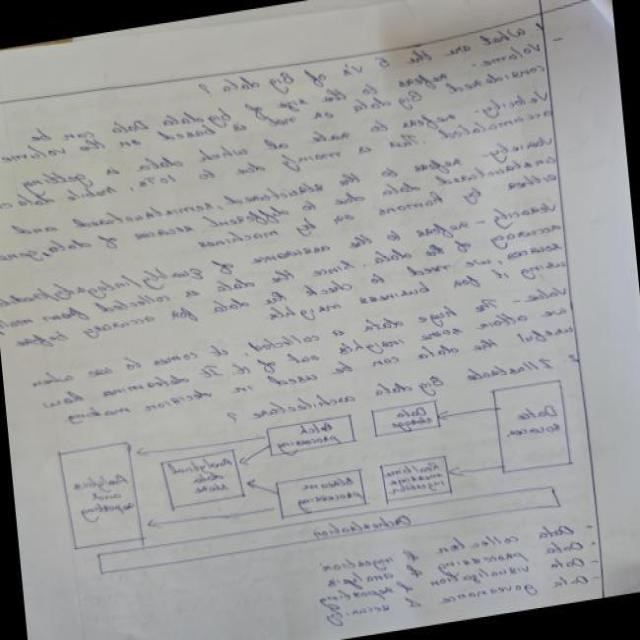Figure Detection - v3 Dataset Version2: (47, 354, 604, 603)
